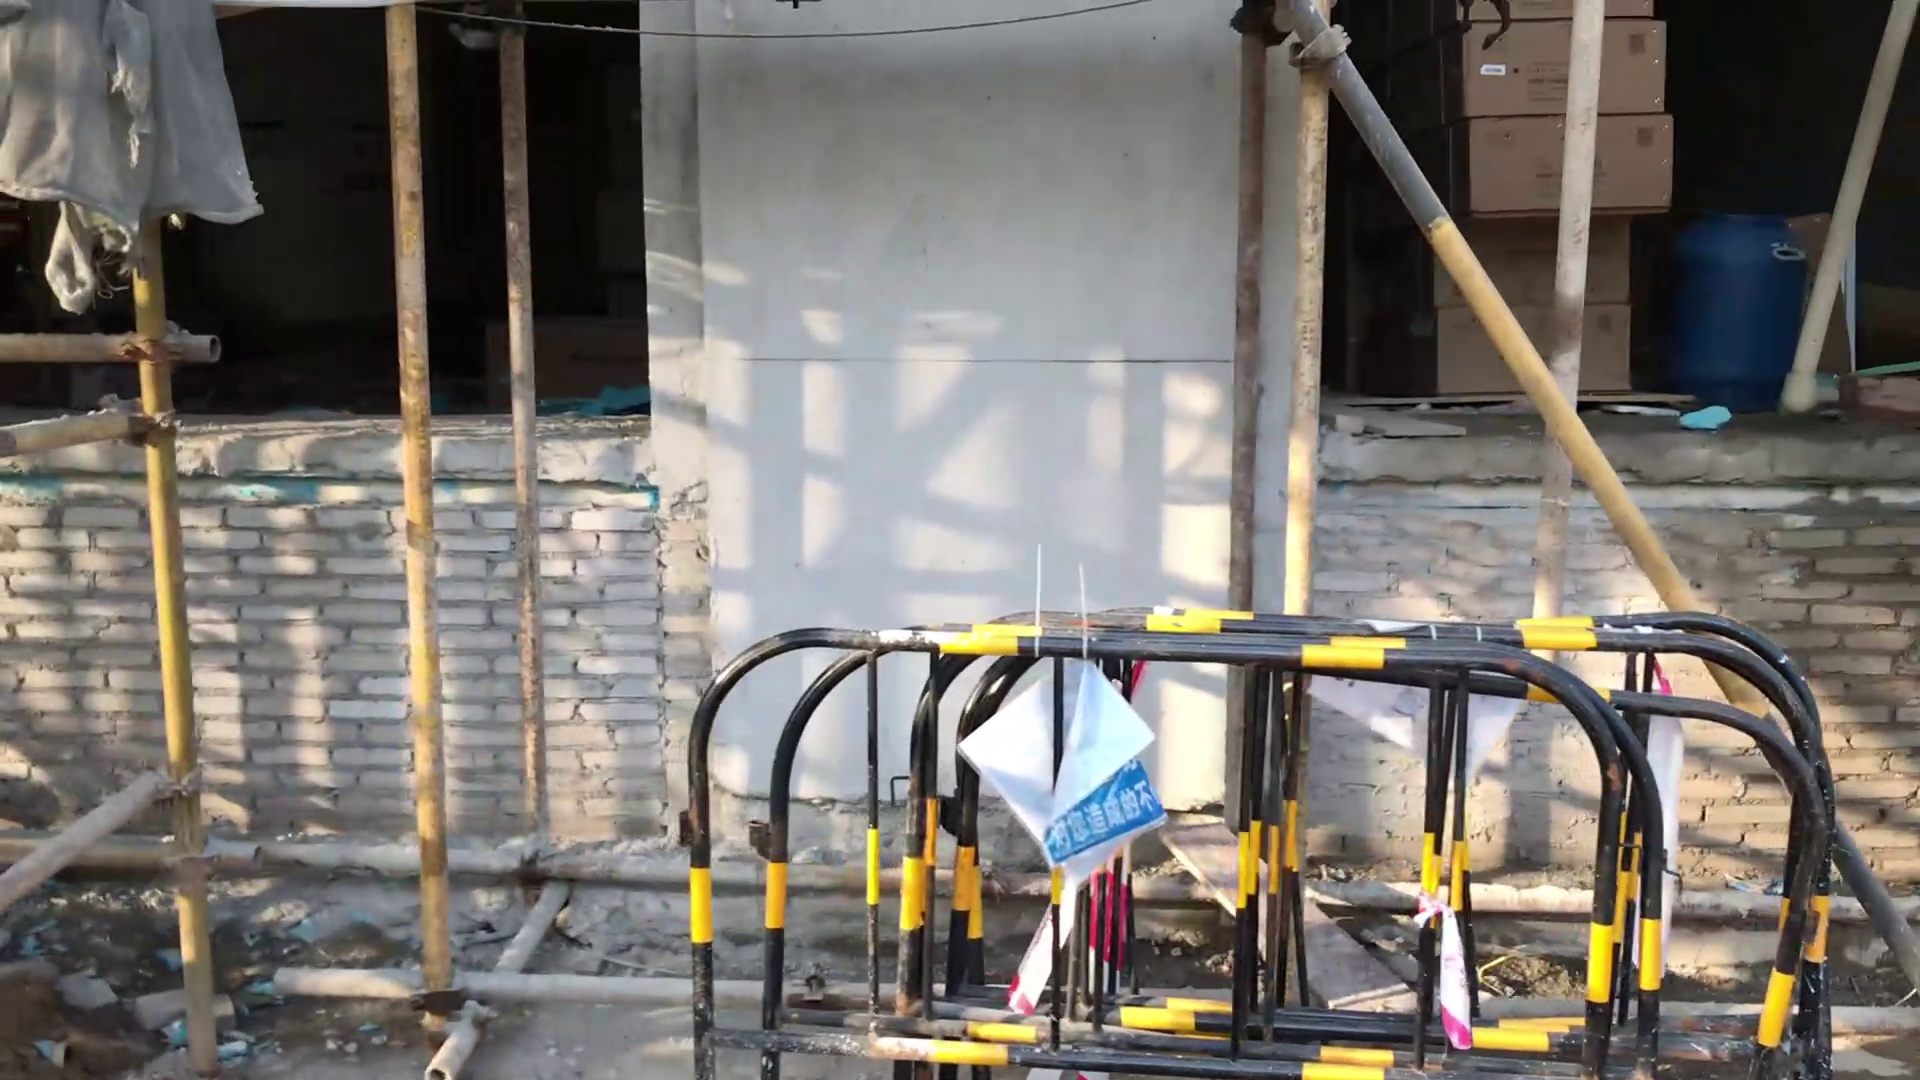fence: (683, 601, 1840, 1080)
